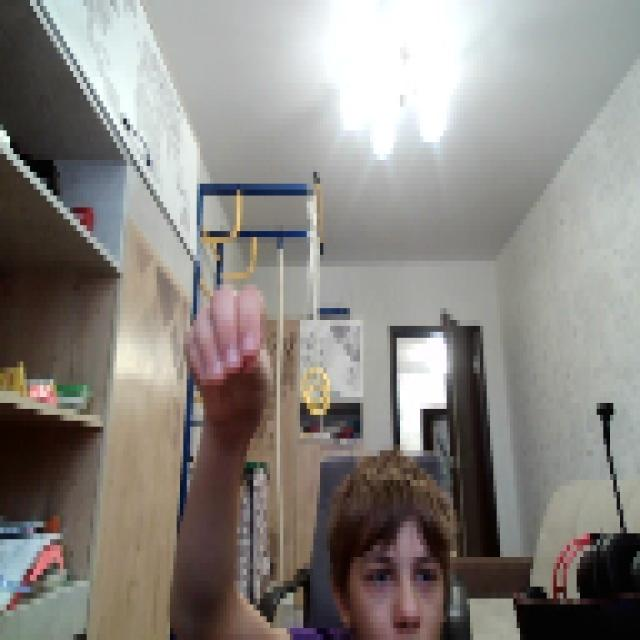left_click: (180, 272, 270, 414)
